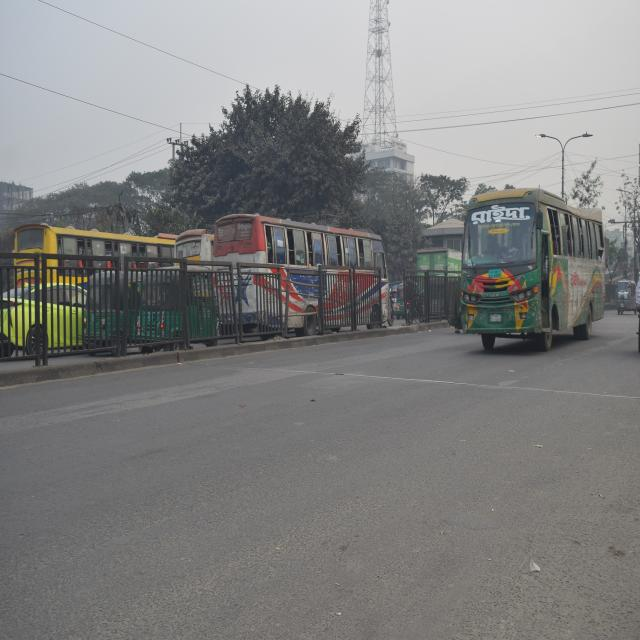bus: (455, 177, 608, 357), (212, 209, 394, 332), (10, 214, 175, 294)
car: (2, 280, 94, 342)
